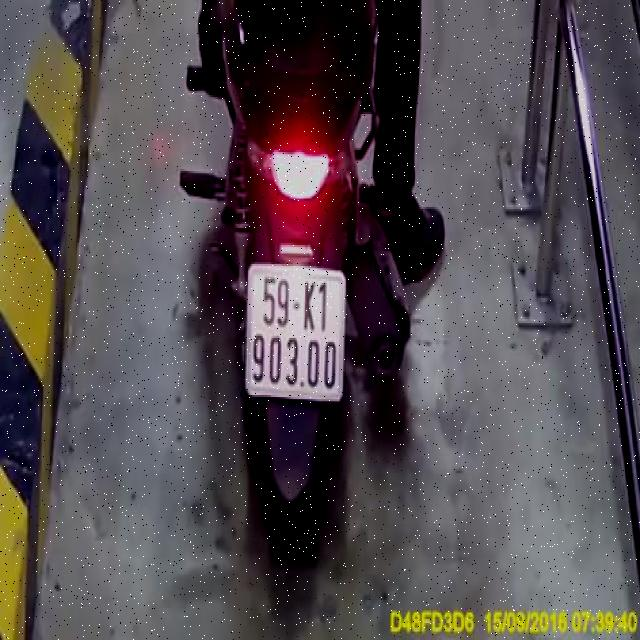0: (306, 339, 321, 389), (268, 337, 283, 383), (324, 340, 336, 391)
1: (318, 280, 328, 334)
3: (286, 335, 299, 386)
5: (263, 275, 276, 328)
9: (250, 335, 266, 383), (276, 276, 290, 328)
K: (303, 278, 316, 332)
